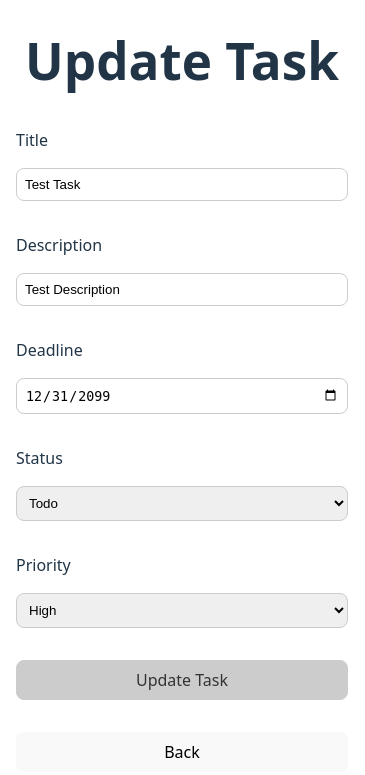
UpdateTaskPage › should show the toast when got an error updating a task
The width and height of the screenshot is (365, 775).
Replace the text in the field with placeholder "Title" with "Updated Task" at (182, 185), box [16,168,348,202]
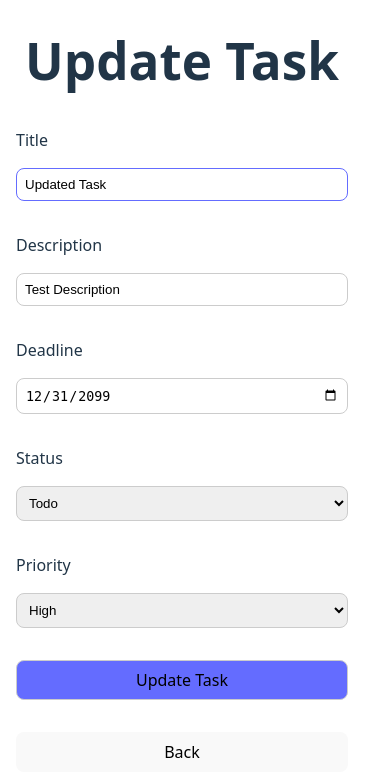
Click the button "Update Task" at (182, 680), box [16,660,348,700]
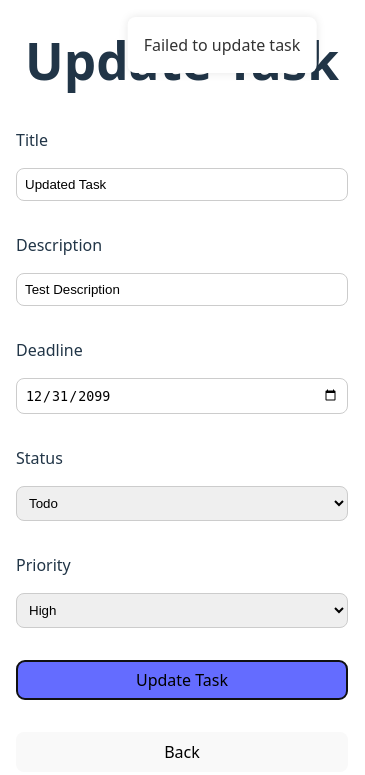
Result: the text "Failed to update task" is shown at [144,33,300,57]
